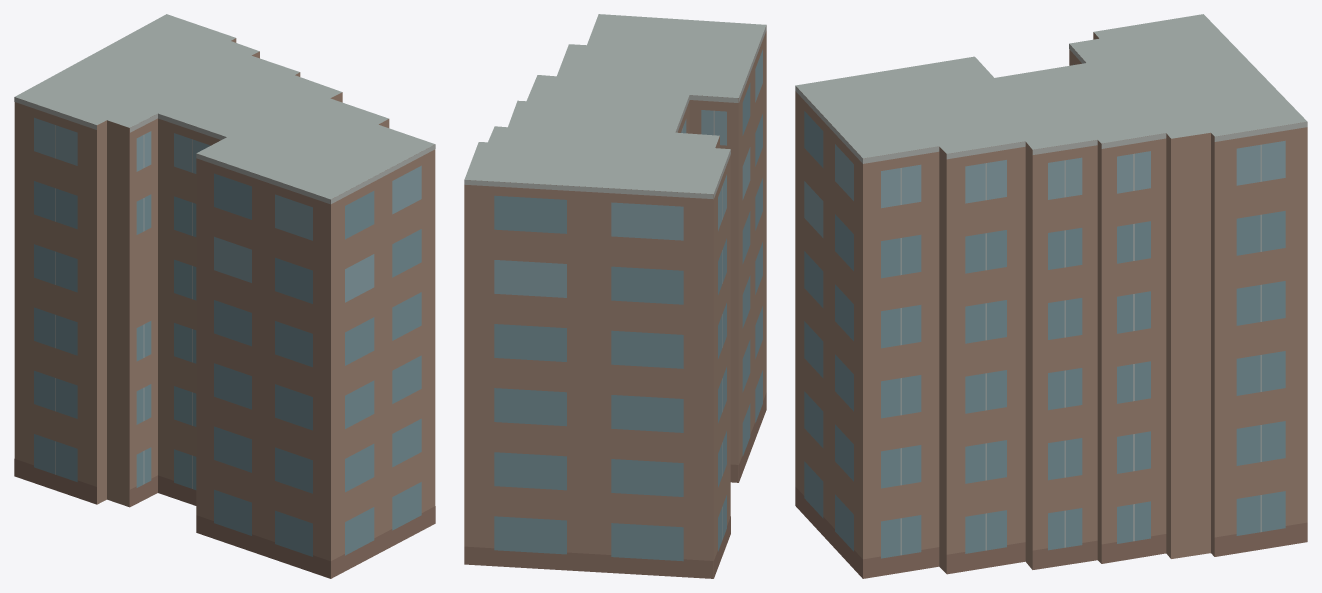
File: survey-upis-32759729.glb
The picture shows the model from 3 angles, left to right: view 1: azimuth 30°, elevation 25°; view 2: azimuth 150°, elevation 25°; view 3: azimuth 270°, elevation 25°; orthographic projection. The views are drawn at different scales.
Visible parts, largest first — view 1: survey-upis-32759729.tmp; view 2: survey-upis-32759729.tmp; view 3: survey-upis-32759729.tmp.
Boxes of the visible parts, x1,y1,x2,y2 form: survey-upis-32759729.tmp: (14, 14, 435, 578); survey-upis-32759729.tmp: (464, 14, 766, 578); survey-upis-32759729.tmp: (795, 14, 1307, 578).
Bounding box in the file's own units: 13.87 × 18.8 × 20.77.
